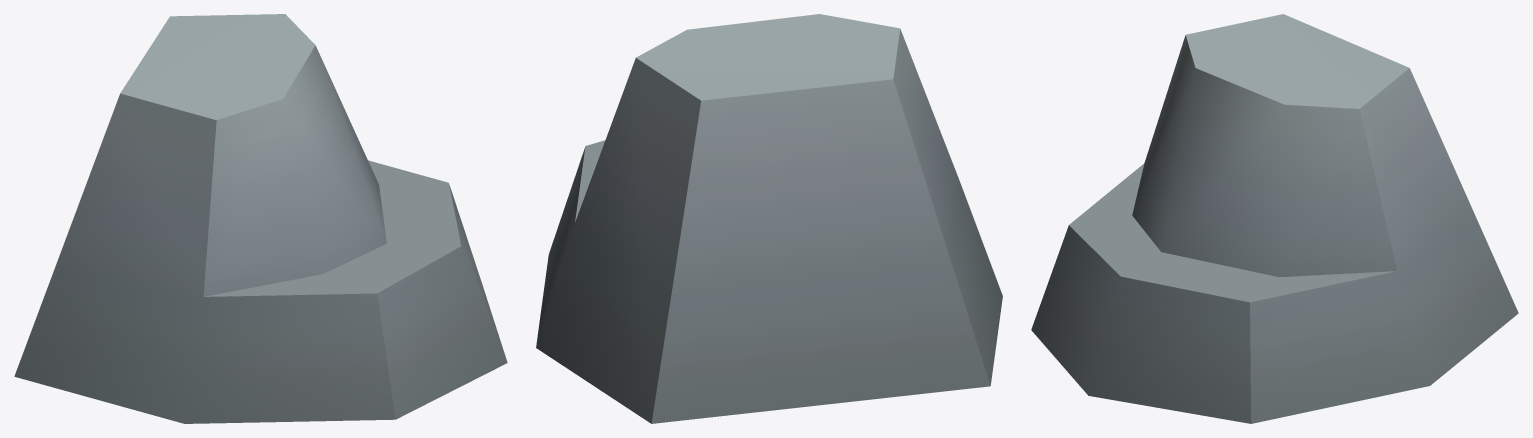
Rendered from rock_c.glb.
3 renders of one model, left to right at view 1: azimuth 30°, elevation 25°; view 2: azimuth 150°, elevation 25°; view 3: azimuth 270°, elevation 25°, orthographic. The views are drawn at different scales.
Visible parts, largest first — view 1: rock_single_C; view 2: rock_single_C; view 3: rock_single_C.
Boxes of the visible parts, box(x1,y1,x2,y2) form: rock_single_C: box(14, 14, 507, 423); rock_single_C: box(536, 14, 1002, 423); rock_single_C: box(1031, 14, 1518, 423).
Size of the model in its own units: 0.3439 by 0.1948 by 0.3442.
Materials: 1 (1 with a texture image).
